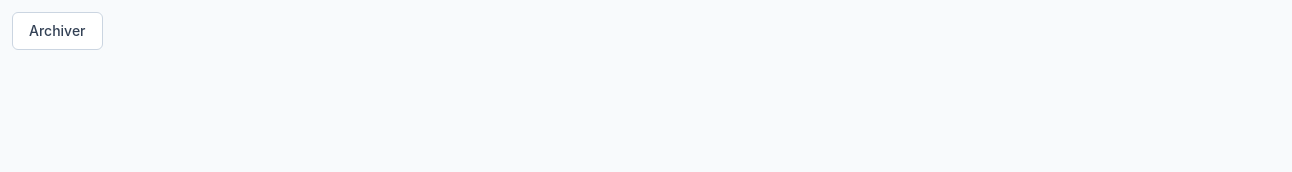
ConfirmAction › premier clic : explique ce qui va se passer, sans rien lancer
What coordinates should you click on to do the following:
click the button "Archiver"
I would click on:
 (57, 31)
Its box is [12,12,102,50].
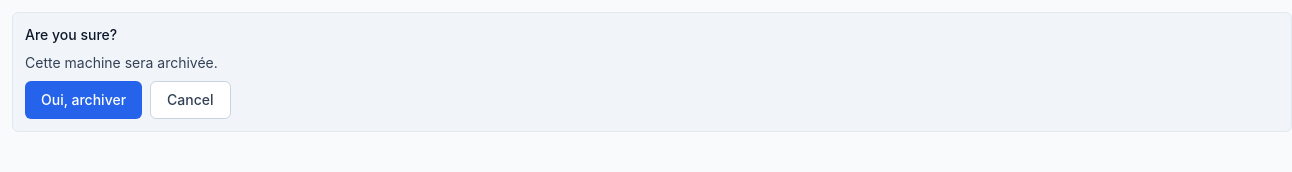
Result: the text "Cette machine sera archivée." is shown at [25,54,218,71]
Result: the button "Oui, archiver" is shown at [25,81,142,119]
